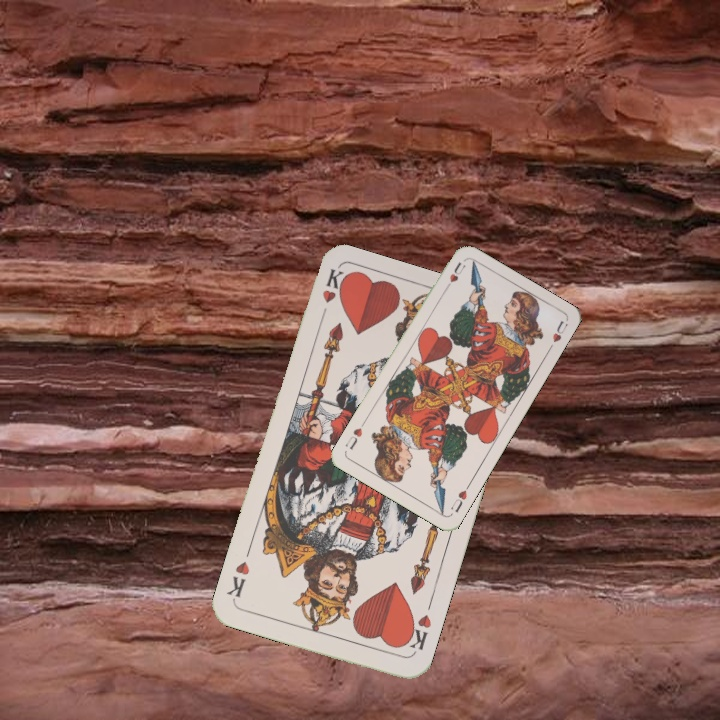HK: (315, 265, 347, 325), (400, 610, 434, 656)
HU: (440, 258, 468, 294), (446, 480, 473, 515)
